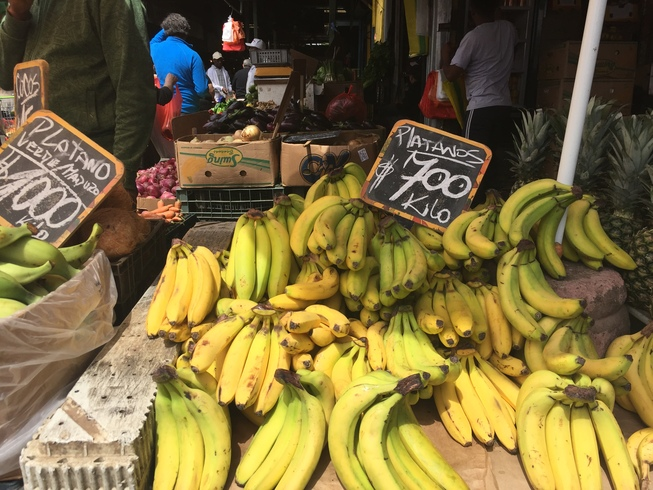precio: (1, 99, 153, 257), (367, 110, 493, 252), (10, 50, 54, 147)
